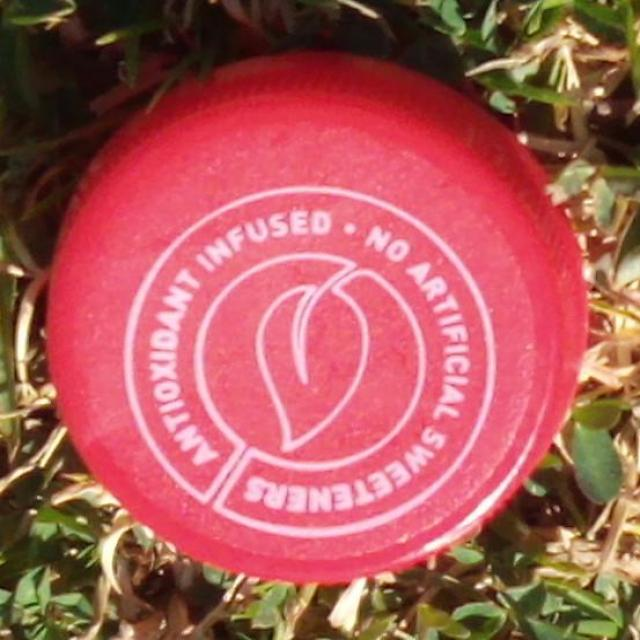litter: (43, 55, 581, 581)
